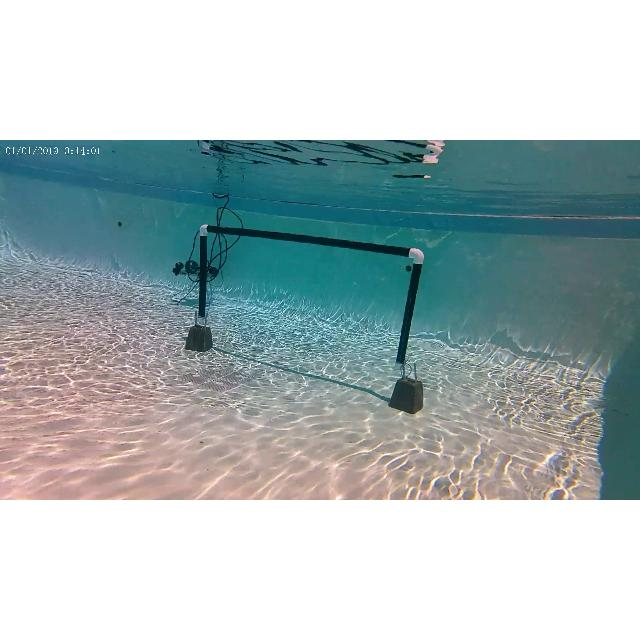prequal gate: (198, 223, 424, 369)
prequal gate leg l: (191, 222, 215, 356)
prequal gate leg r: (392, 238, 428, 418)
